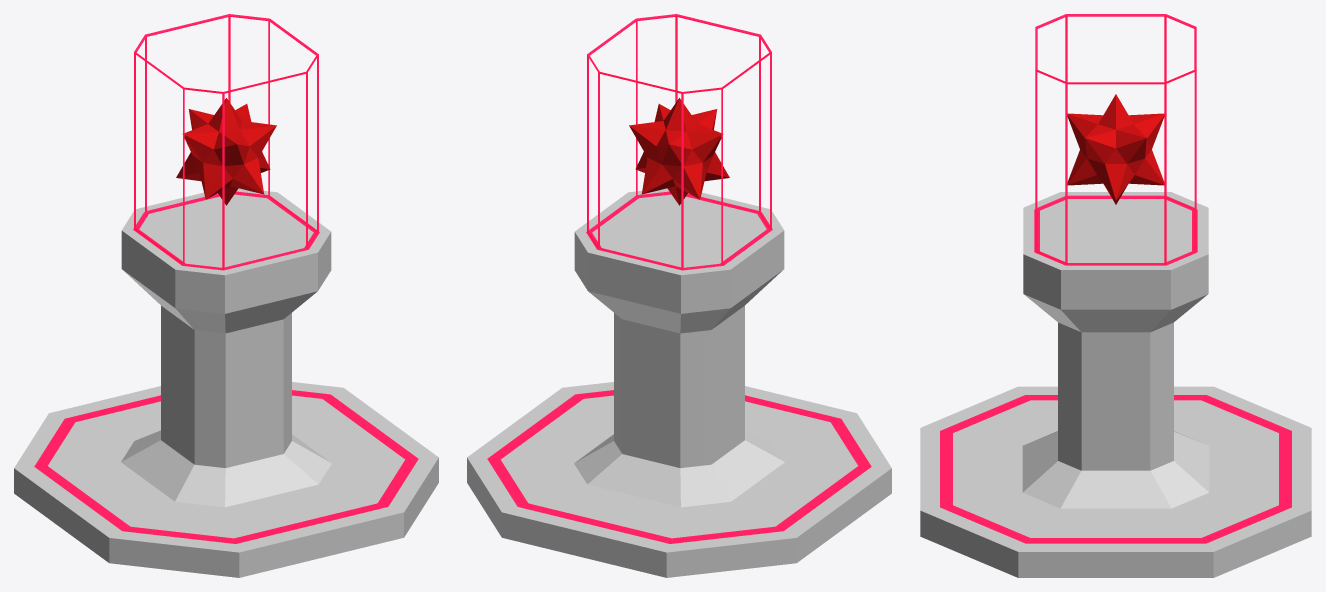
Rendered from artifact-pedestal.fbx.
3 views of the same model, side by side, from view 1: azimuth 30°, elevation 25°; view 2: azimuth 150°, elevation 25°; view 3: azimuth 270°, elevation 25° (orthographic). The views are drawn at different scales.
Visible parts, largest first — view 1: Cube.004; view 2: Cube.004; view 3: Cube.004.
Boxes of the visible parts, x1,y1,x2,y2 form: Cube.004: [14, 14, 438, 577]; Cube.004: [467, 14, 891, 577]; Cube.004: [920, 14, 1311, 577].
Bounding box in the file's own units: 116 × 147 × 116.
